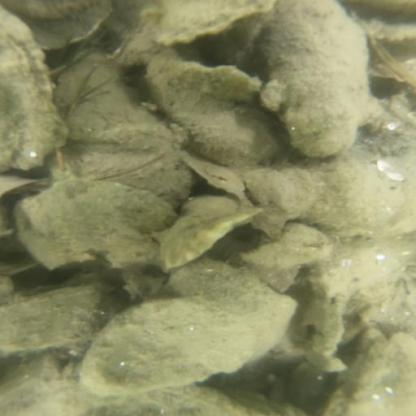3: (0, 271, 112, 354)
Oyster- Indeterminate: (0, 4, 69, 173)
Oyster-Closed: (83, 258, 296, 393), (48, 58, 190, 208), (257, 0, 377, 157), (8, 175, 180, 269), (146, 58, 274, 168), (127, 1, 277, 56), (158, 206, 267, 275), (345, 332, 416, 416), (178, 58, 268, 105), (238, 222, 327, 267), (244, 168, 317, 218)
